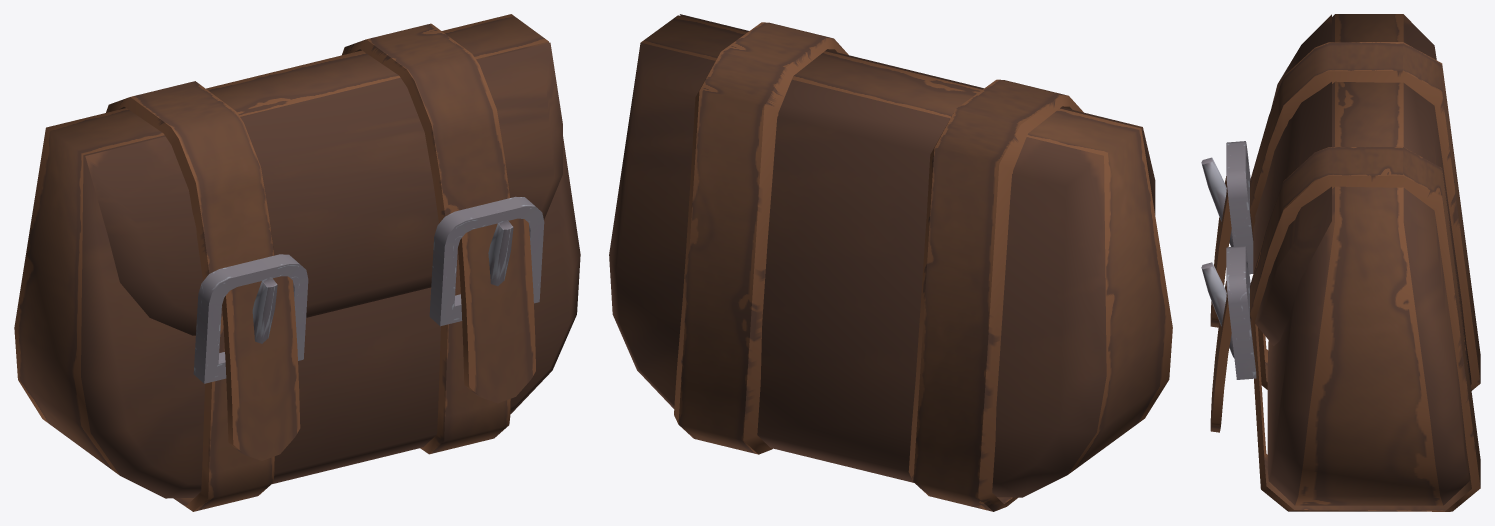
File: Pouch_Large.gltf
The picture shows the model from 3 angles, left to right: view 1: azimuth 30°, elevation 25°; view 2: azimuth 150°, elevation 25°; view 3: azimuth 270°, elevation 25°; orthographic projection. The views are drawn at different scales.
Parts seen in each view (by area): view 1: Pouch_Large; view 2: Pouch_Large; view 3: Pouch_Large.
Part boxes in pixels (left/top/right/bottom): Pouch_Large: left=14, top=14, right=580, bottom=511; Pouch_Large: left=609, top=14, right=1172, bottom=511; Pouch_Large: left=1201, top=14, right=1480, bottom=511.
Bounding box in the file's own units: 0.2255 × 0.1591 × 0.1198.
2 materials, 2 textured.
